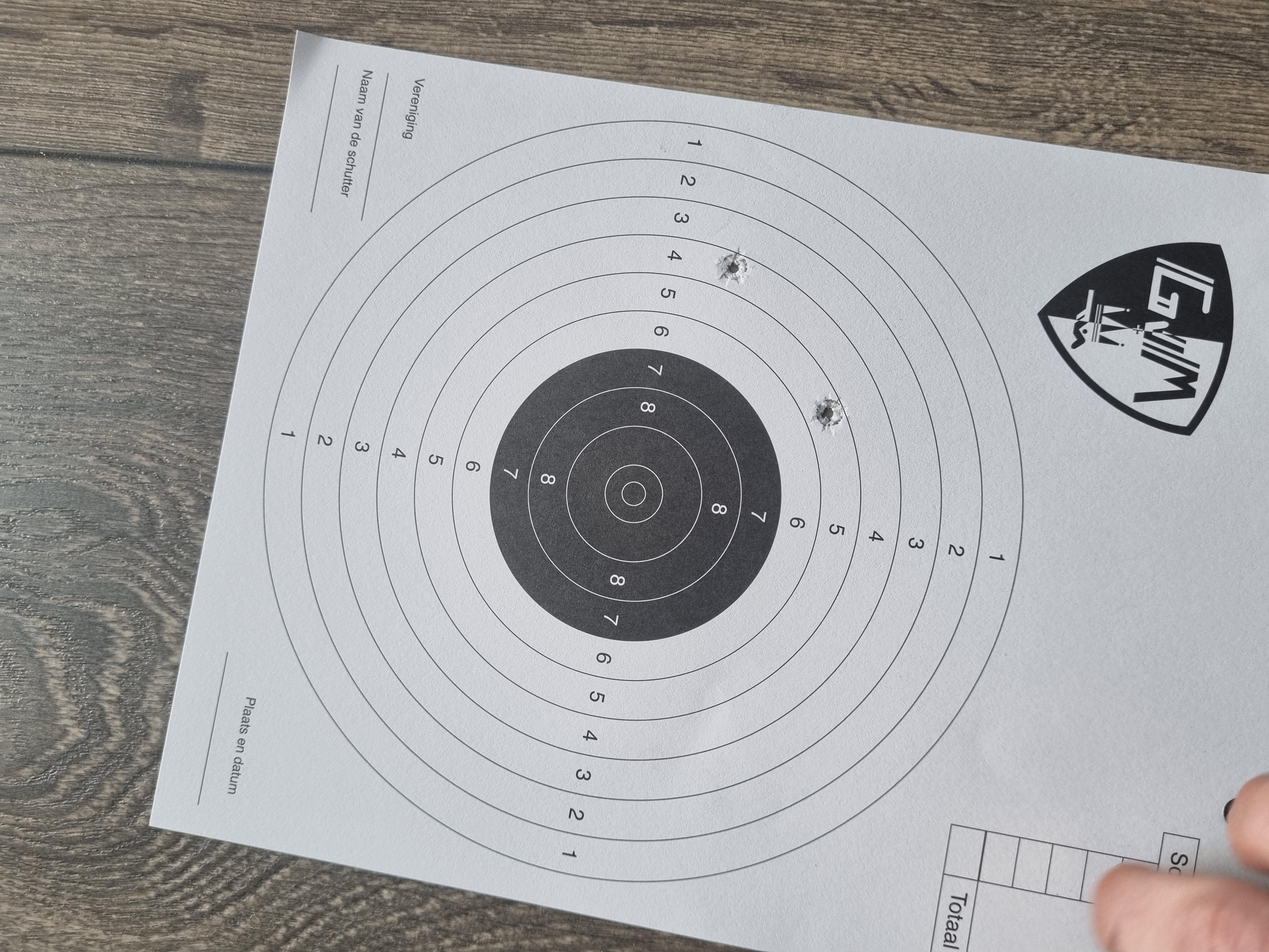hole: (693, 610, 739, 634), (890, 541, 933, 562)
